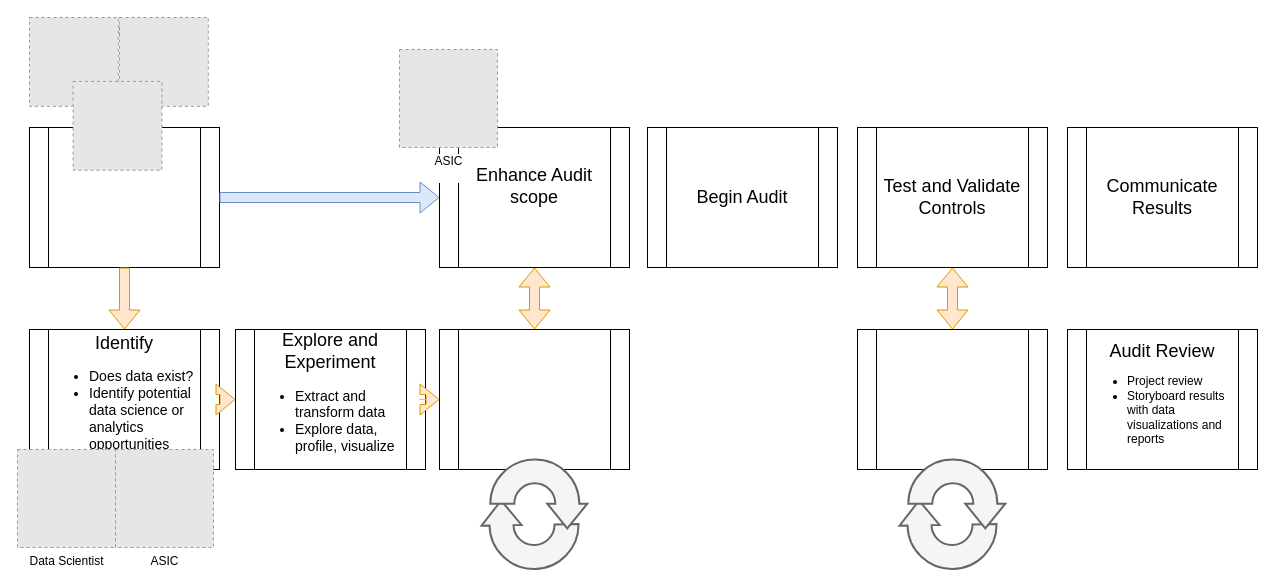
This 1275x588 diagram has some shape labels left out. Grey dashed boxes stand in for pictures. Each missing label, with the centre of its shape:
"Determine audit objectives and scope" belongs at [124,197].
"Develop Hypotheses Brainstrom to develop tests and hypotheses Determine metrics" belongs at [534,399].
"Support Audit Iterate on hypotheses Provide addtiional data support" belongs at [952,399].
